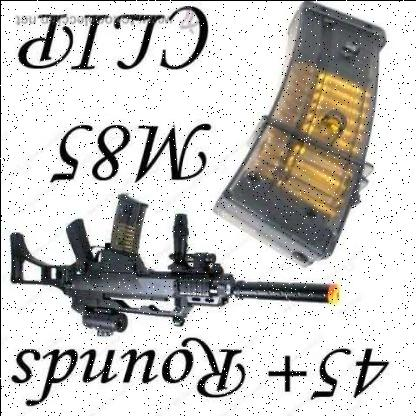rifle: (1, 190, 360, 348)
